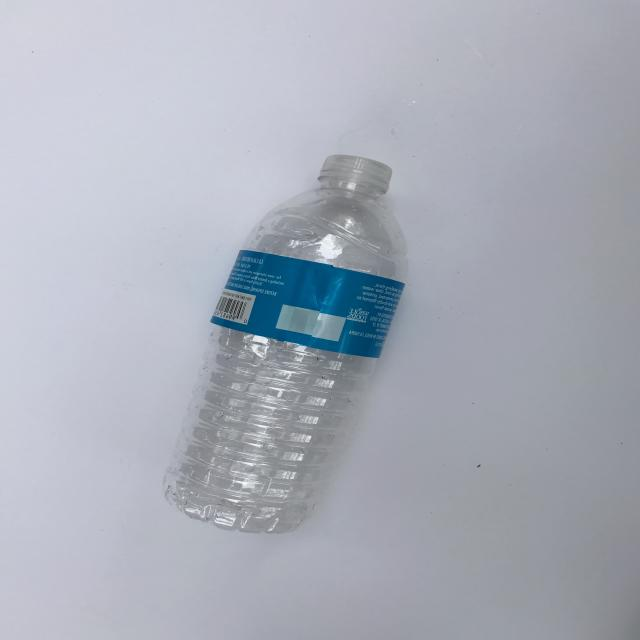plastic: (162, 153, 410, 534)
